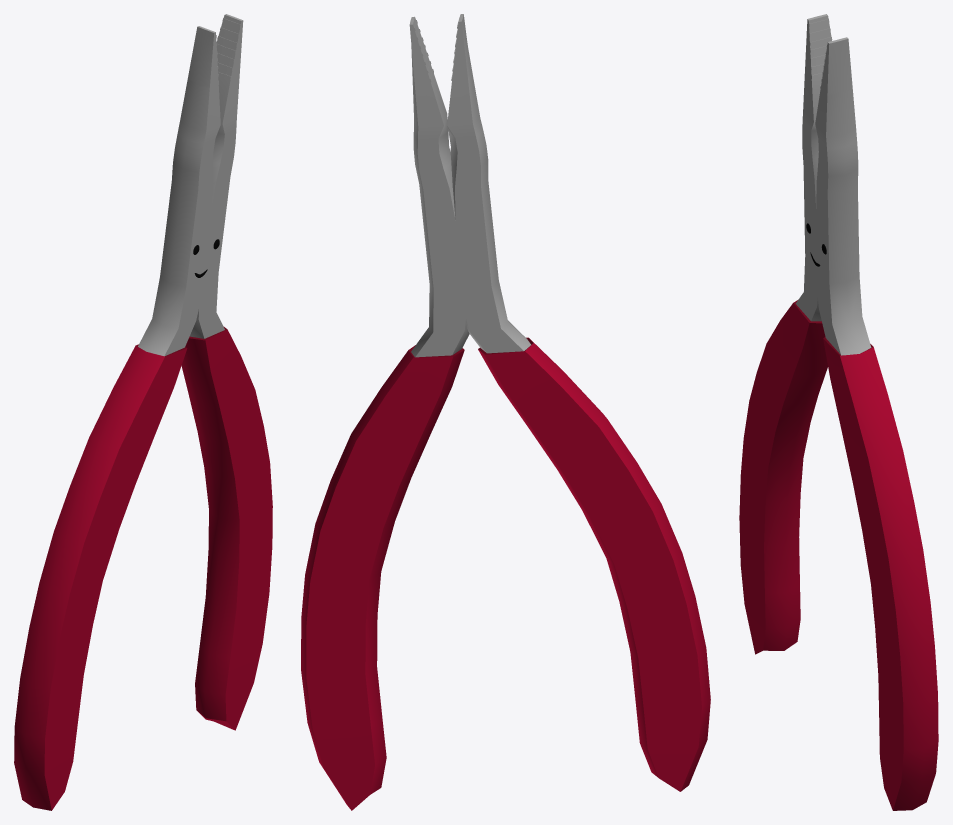
File: pentiaruki.fbx
The picture shows the model from 3 angles, left to right: view 1: azimuth 30°, elevation 25°; view 2: azimuth 150°, elevation 25°; view 3: azimuth 270°, elevation 25°; orthographic projection. The views are drawn at different scales.
Parts seen in each view (by area): view 1: pCube3; view 2: pCube3; view 3: pCube3.
Part boxes in pixels (x1=…): pCube3: x1=14, y1=14, x2=272, y2=810; pCube3: x1=301, y1=14, x2=710, y2=810; pCube3: x1=739, y1=14, x2=938, y2=810.
Size of the model in its own units: 38.62 by 86.25 by 20.44.
